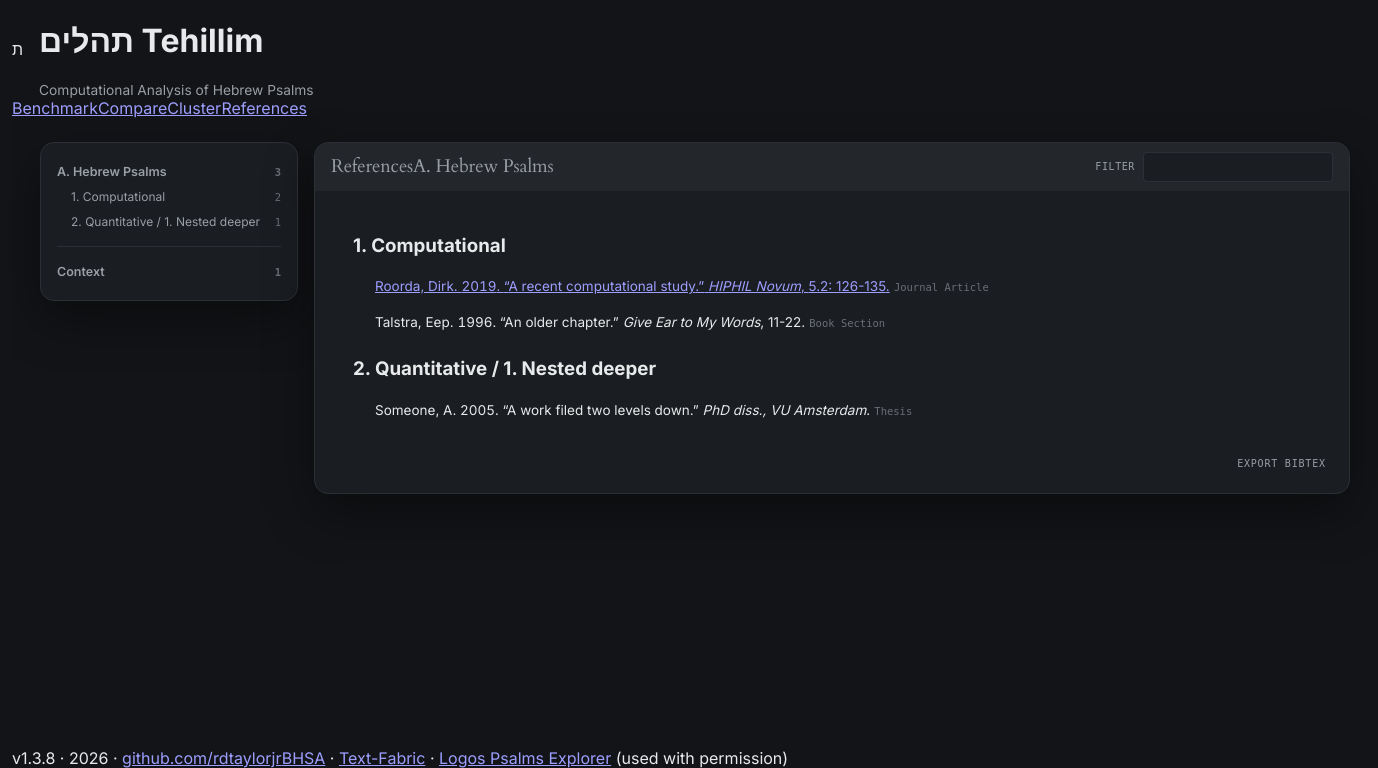
ReferencesPage › narrows to one run when a subcategory is chosen
The width and height of the screenshot is (1378, 768).
Step 1. Click the button named "1. Computational2" → [169, 196], box [57,184,281,209]
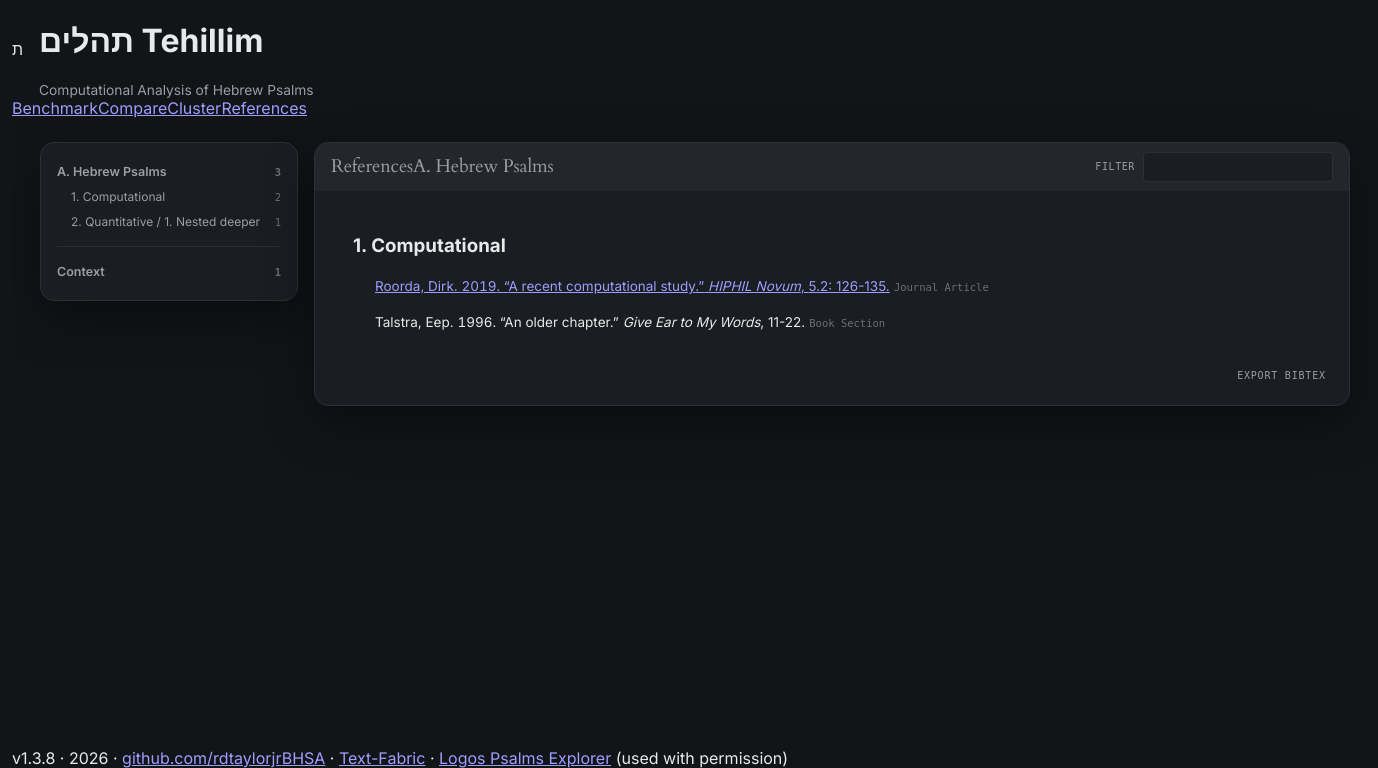
Check: the link "A recent computational study" is shown, box [375,278,890,294]
Check: the list item "A work filed two levels down" is gone
